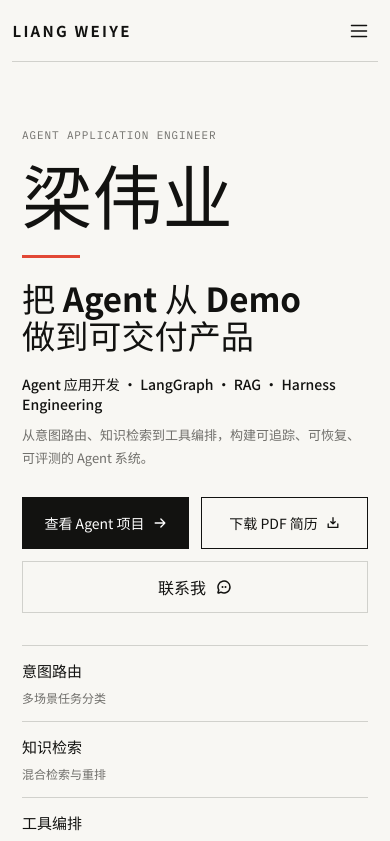
it: Liang Weiye Agent landing page › opens an accessible mobile navigation menu
Click the button named "打开导航" at (358, 30), box [340,12,378,50]
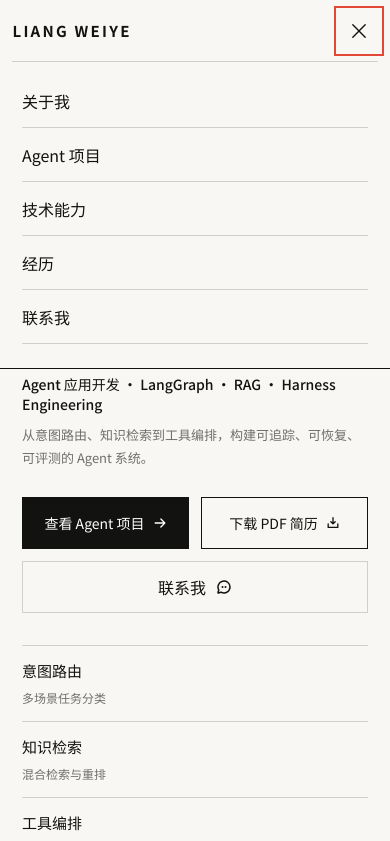
Now the navigation bar named "移动导航" is shown, box [0,62,389,369]
Now the button named "关闭导航" is expanded, box [340,12,378,50]
